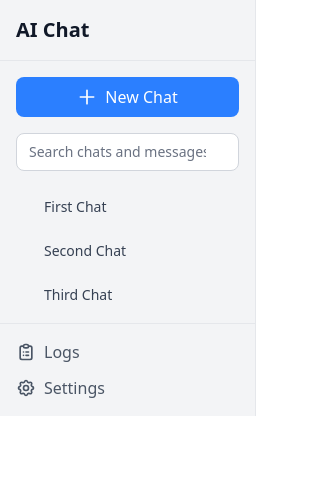
Test: ChatSidebar › selection mode behavior › clears selection with Cancel button
The width and height of the screenshot is (320, 486).
Click the link "First Chat". click: (75, 206)
box: x1=44 y1=197 x2=106 y2=216
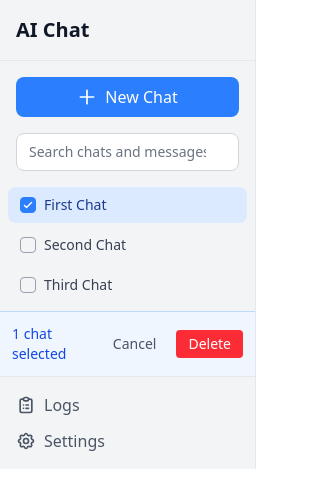
Click the button "Cancel". click: (135, 344)
box: x1=101 y1=330 x2=168 y2=358
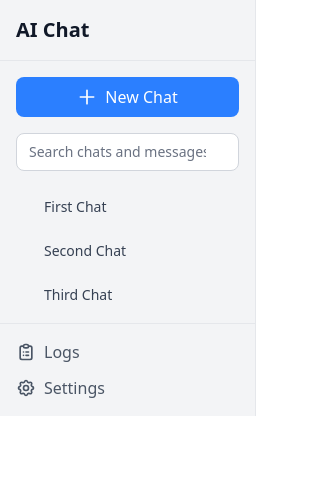
Check: the text "1 chat selected" is gone
